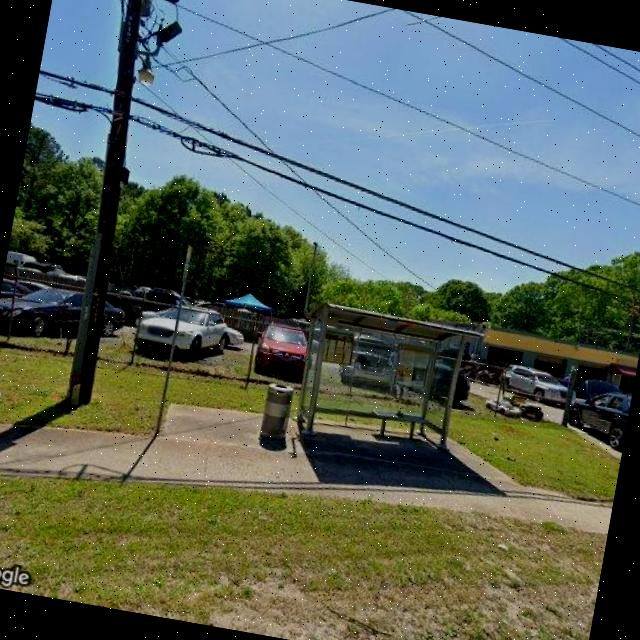seating: (366, 404, 428, 446)
shelter: (290, 301, 484, 464)
trash_can: (258, 382, 294, 441)
